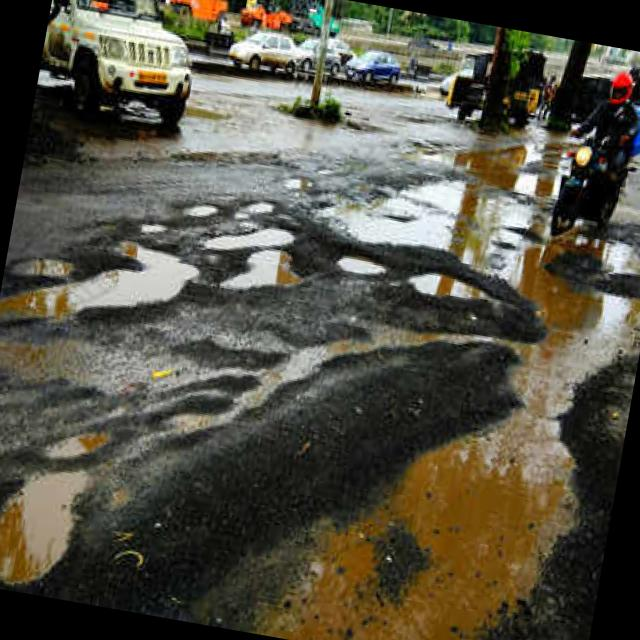Potholes: (137, 53, 640, 640), (0, 208, 200, 369), (0, 409, 120, 604), (196, 191, 306, 283), (222, 232, 324, 312), (404, 254, 492, 310), (322, 232, 401, 284)
